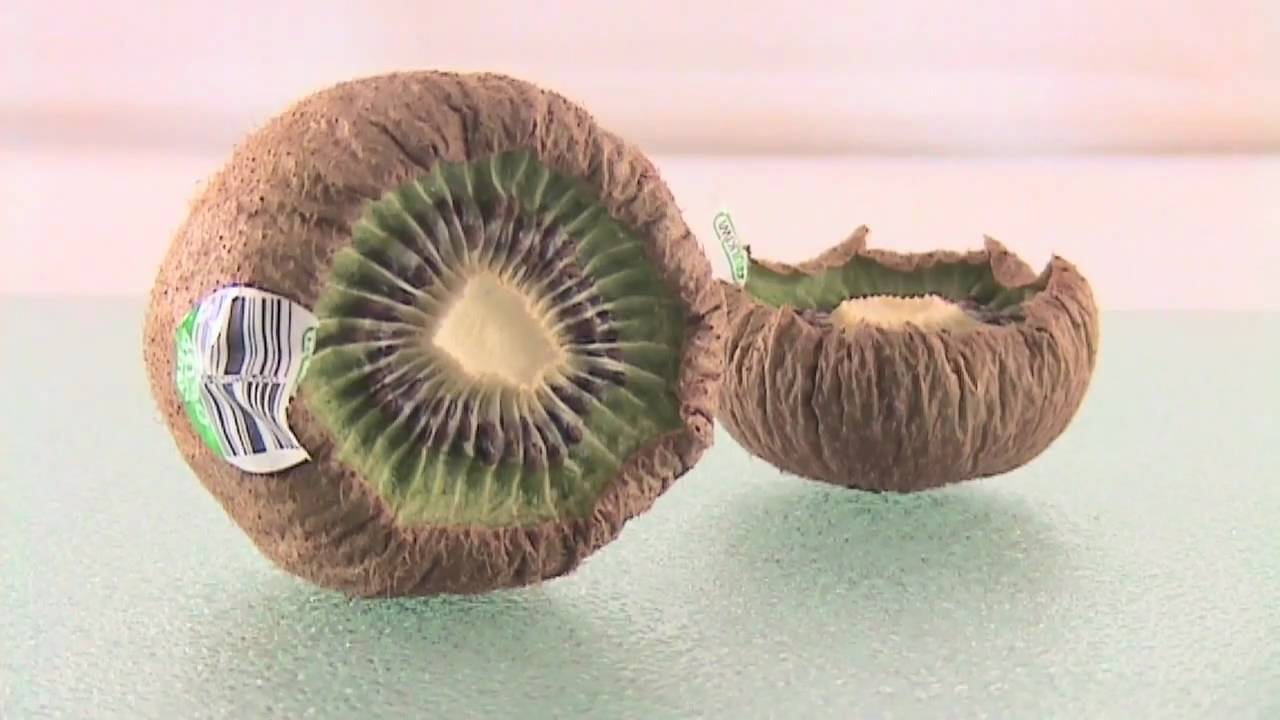damaged_kiwi: (157, 58, 730, 583), (731, 223, 1096, 495)
